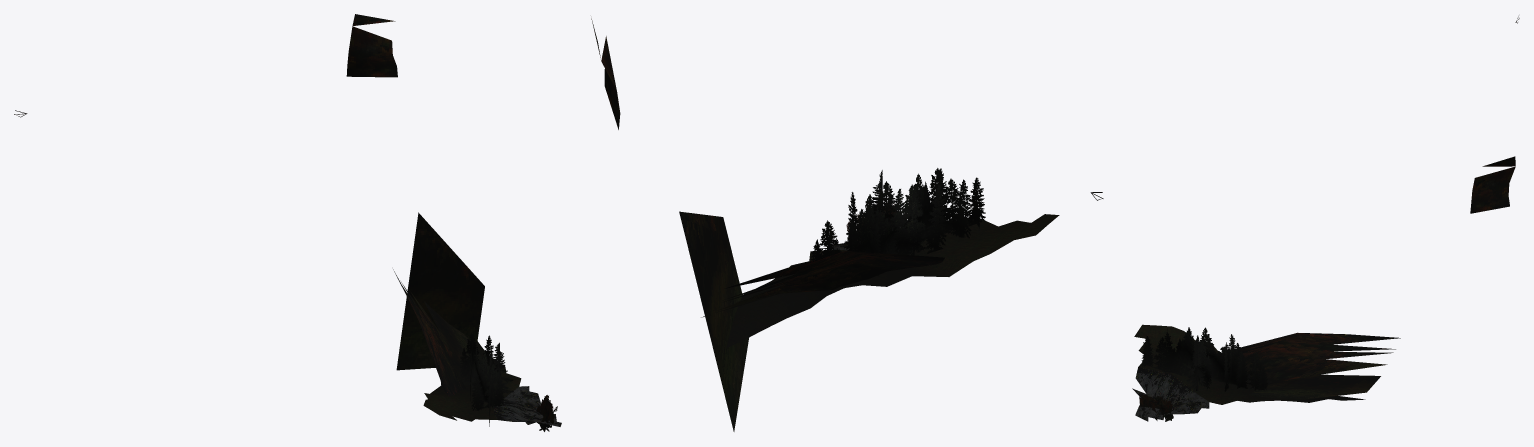
Rendered from cell_10_-13.gltf.
The picture shows the model from 3 angles, left to right: view 1: azimuth 30°, elevation 25°; view 2: azimuth 150°, elevation 25°; view 3: azimuth 270°, elevation 25°; orthographic projection. The views are drawn at different scales.
Visible parts, largest first — view 1: cell_10_-13; view 2: cell_10_-13; view 3: cell_10_-13.
Part boxes in pixels (bbox=[...]): cell_10_-13: bbox=[14, 14, 561, 431]; cell_10_-13: bbox=[591, 18, 1103, 431]; cell_10_-13: bbox=[1132, 16, 1519, 421].
Size of the model in its own units: 267 by 213 by 260.
Materials: 13 (13 with a texture image).
